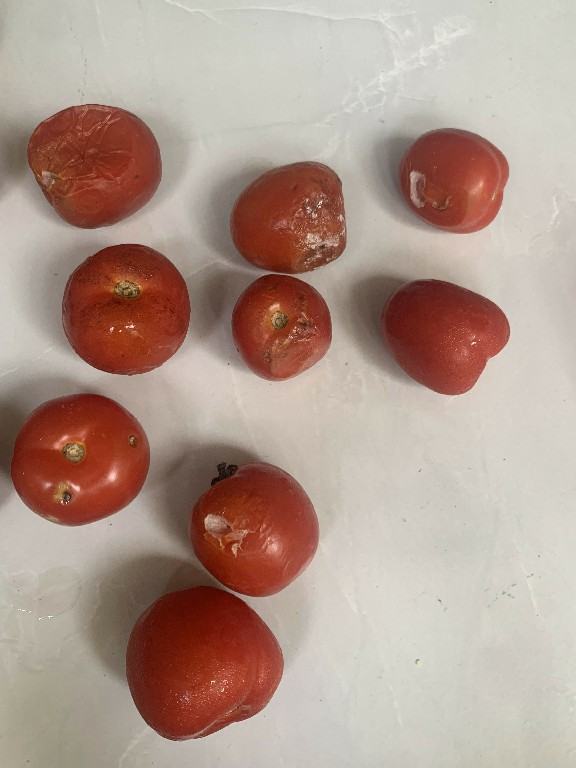NG: (173, 455, 326, 597), (3, 383, 148, 529), (15, 100, 161, 235), (384, 123, 517, 246), (225, 155, 351, 273), (228, 271, 335, 389)
OK: (109, 581, 290, 748), (53, 242, 198, 380), (369, 270, 514, 403)
